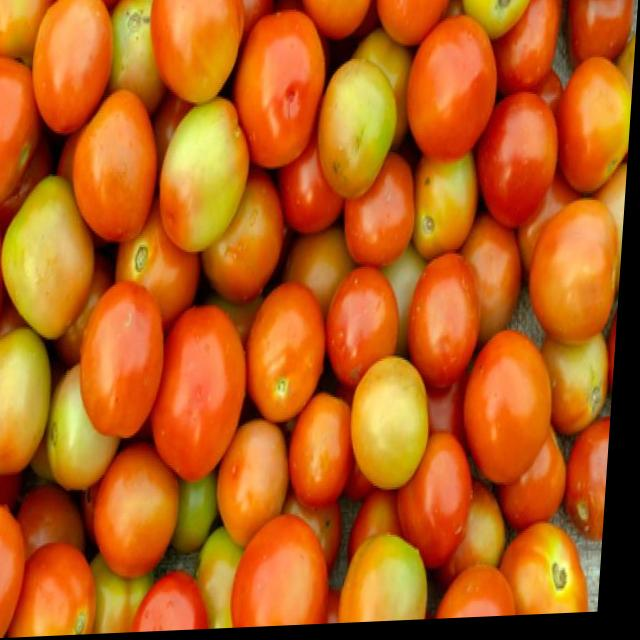sari: (2, 174, 117, 349)
